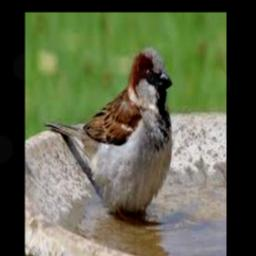Sparrow: (43, 45, 172, 217)
